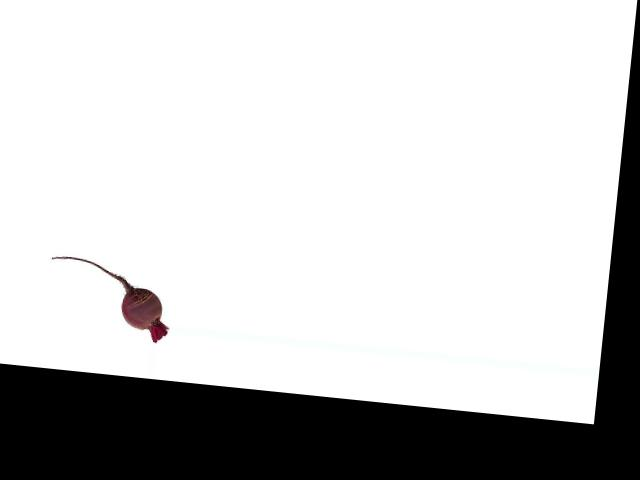beet: (42, 254, 174, 343)
